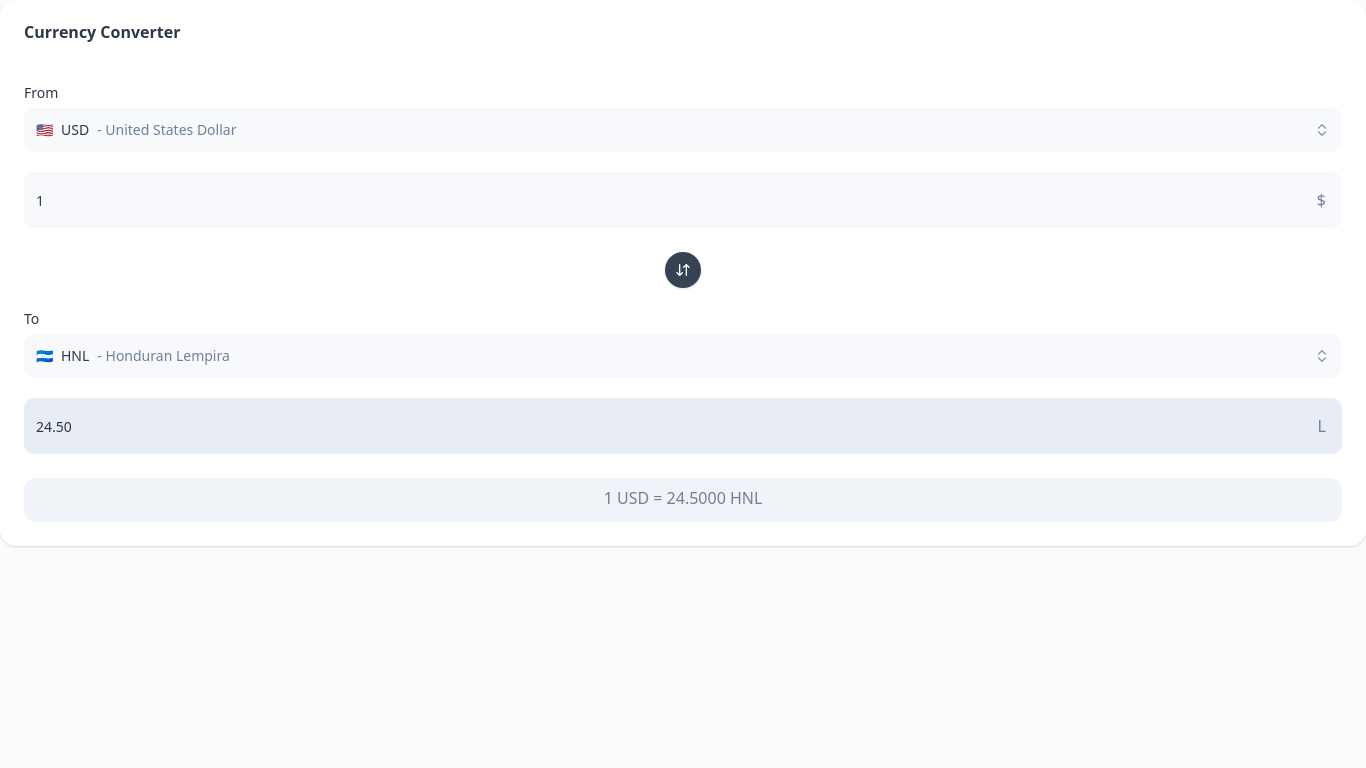
Test: CurrencyConverter Component › Edge Cases › should handle zero amount
The width and height of the screenshot is (1366, 768).
Replace the text in the number field with test id "exchange-from-amount-input" with "0" at (683, 200), box [24,172,1342,228]
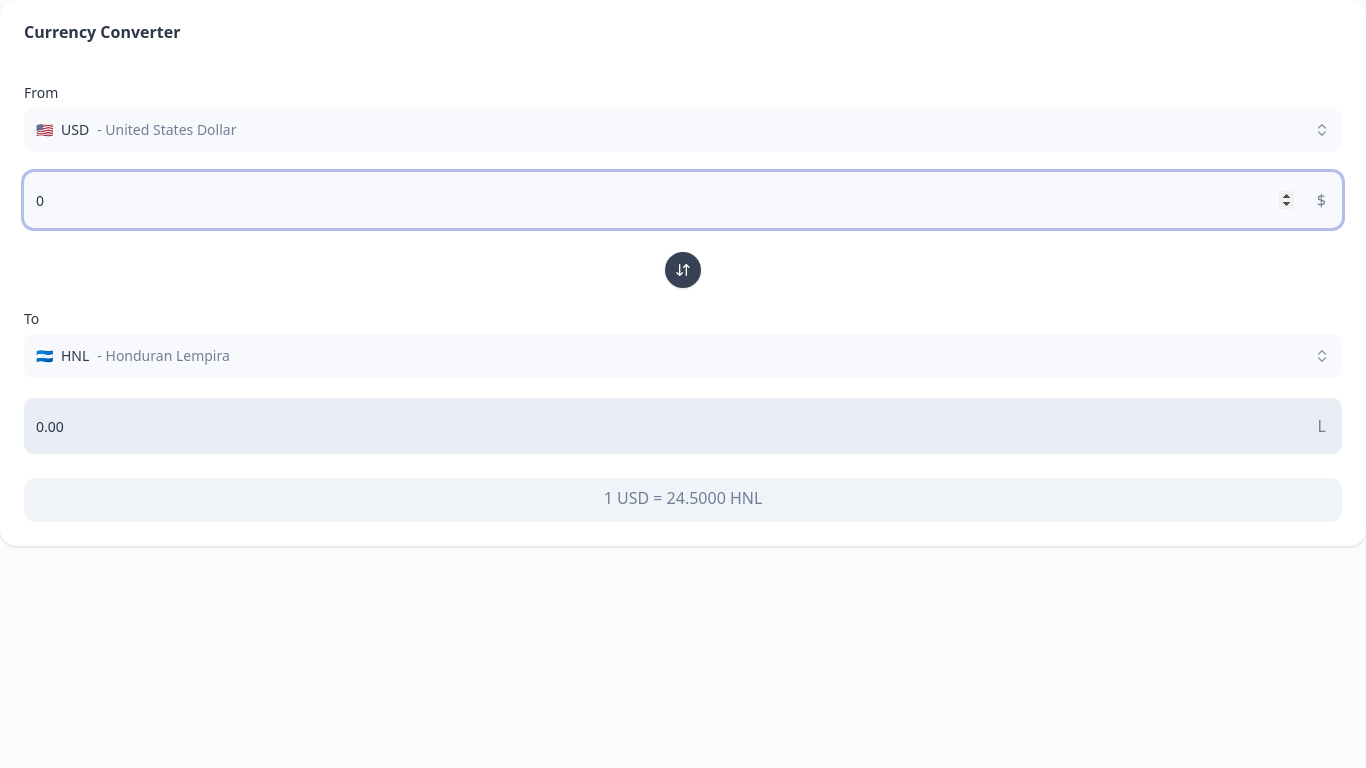
Expected: the field with test id "exchange-to-amount-input" holds "0.00", [24,398,1342,454]
